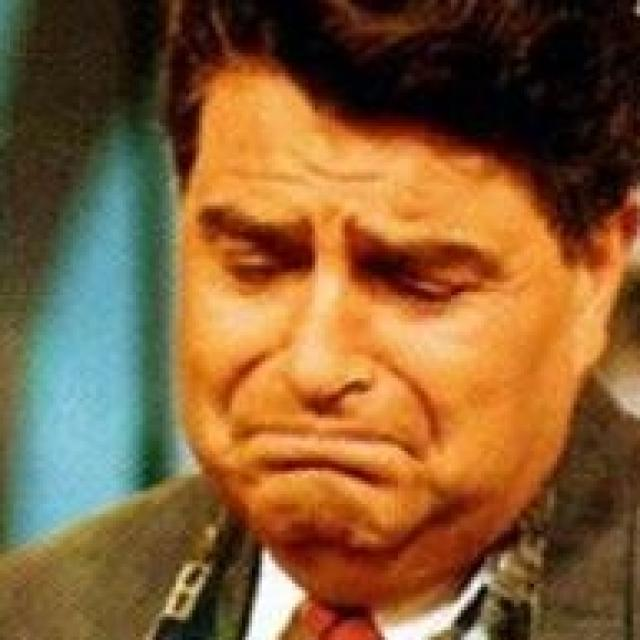Depress: (181, 66, 572, 565)
